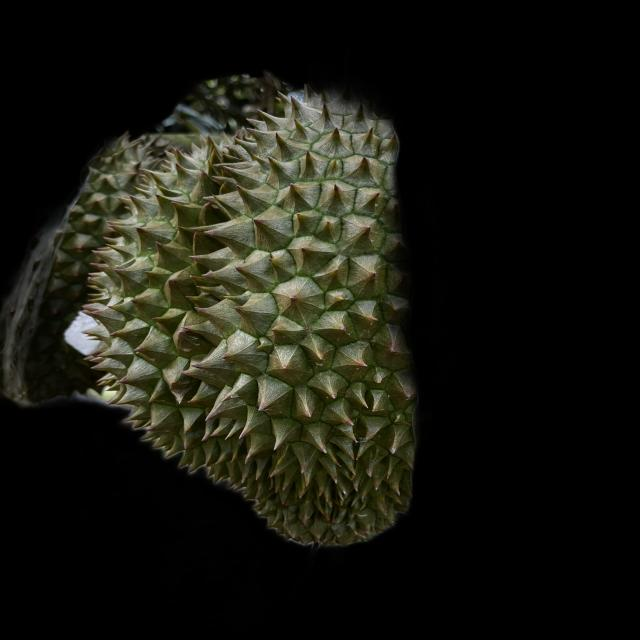immature: (73, 96, 426, 545)
